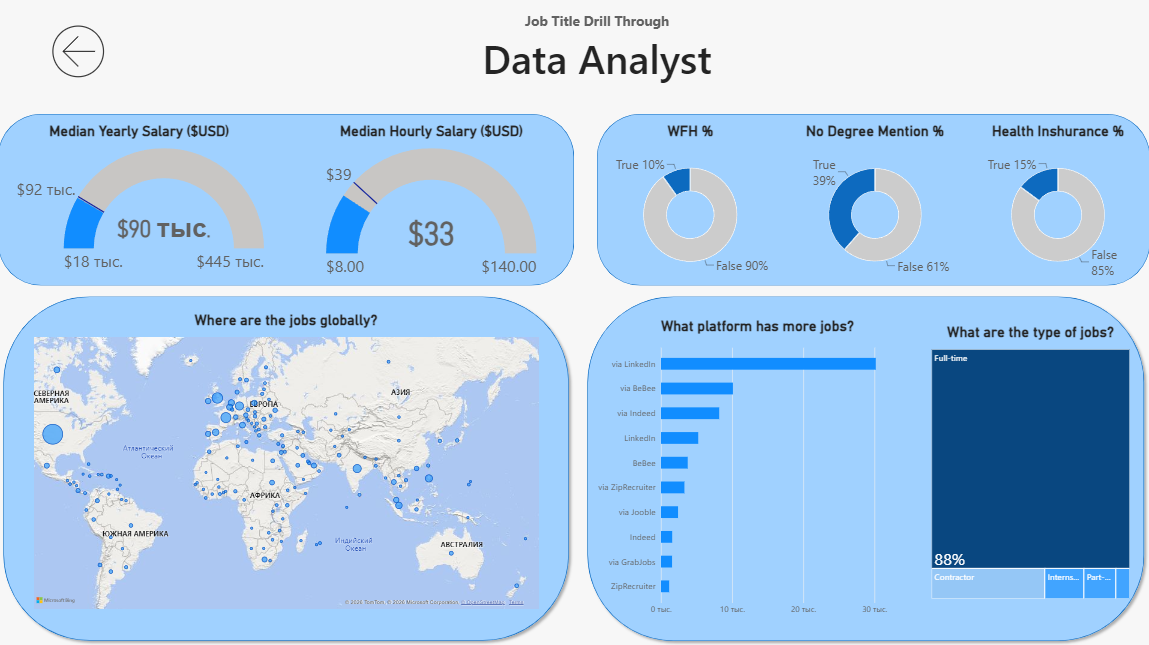

This screenshot's page, from the dashboard's own definition file:
{"tool":"powerbi","page":{"name":"Job Title Drill Through","canvas":[1920,1080],"ordinal":1},"visuals":[{"type":"shape","box":[0,192.9,960.3,286],"z":0,"group":"g1"},{"type":"group","id":"g1","title":"BACKGROUND","box":[0,192.9,1920.6,887.3],"z":0},{"type":"cardVisual","fields":{"Data":["Min(job_postings_flat.job_title_short)1"]},"box":[532.9,0,930,168.6],"z":1000},{"type":"shape","box":[998.9,192.9,921.7,286],"z":1000,"group":"g1"},{"type":"actionButton","box":[41.2,34.6,183.5,99.8],"z":2000},{"type":"shape","box":[0,488.2,960.3,591.9],"z":2000,"group":"g1"},{"type":"gauge","title":"Median Yearly Salary ($USD)","fields":{"MaxValue":["Max(job_postings_flat.salary_year_avg)1"],"MinValue":["Min(job_postings_flat.salary_year_avg)"],"TargetValue":["Avg(job_postings_flat.salary_year_avg)2"],"Y":["Median(job_postings_flat.salary_year_avg)"]},"box":[0,193,470.1,285.9],"z":3000},{"type":"shape","box":[974,487.8,946,592.4],"z":3000,"group":"g1"},{"type":"gauge","title":"Median Hourly Salary ($USD)","fields":{"MaxValue":["Max(job_postings_flat.salary_hour_avg)1"],"MinValue":["Min(job_postings_flat.salary_hour_avg)"],"TargetValue":["Avg(job_postings_flat.salary_hour_avg)2"],"Y":["Median(job_postings_flat.salary_hour_avg)"]},"box":[470,192.9,504.3,294.3],"z":4000},{"type":"donutChart","title":"WFH %","fields":{"Category":["job_postings_flat.job_work_from_home"],"Y":["CountNonNull(job_postings_flat.job_work_from_home)"]},"box":[999,193,310.9,294.7],"z":5000},{"type":"donutChart","title":"No Degree Mention %","fields":{"Category":["job_postings_flat.job_no_degree_mention"],"Y":["CountNonNull(job_postings_flat.job_no_degree_mention)"]},"box":[1310,193.3,303.3,295],"z":6000},{"type":"donutChart","title":"Health Inshurance %","fields":{"Category":["job_postings_flat.job_health_insurance"],"Y":["CountNonNull(job_postings_flat.job_health_insurance)"]},"box":[1613.3,193.3,306.7,295],"z":7000},{"type":"map","title":"Where are the jobs globally?","fields":{"Category":["job_postings_flat.job_country"],"Size":["CountNonNull(job_postings_flat.job_title_short)"]},"box":[42.7,508.4,873.8,526],"z":8000},{"type":"treemap","title":"What are the type of jobs?","fields":{"Group":["job_postings_flat.job_schedule_type"],"Values":["CountNonNull(job_postings_flat.job_schedule_type)"]},"box":[1539.8,527.5,362.5,489.2],"z":9000},{"type":"barChart","title":"What platform has more jobs?","fields":{"Category":["job_postings_flat.job_via"],"Y":["CountNonNull(job_postings_flat.job_via)"]},"box":[974.3,518.6,582,530.5],"z":10000}]}

Visuals, with their boxes in screenshot pixels (x1, y1, x2, y2), scaled from the page's 1920x1080 canvas onto the 1149x645 screenshot:
shape: 0/115/575/286
"BACKGROUND" group: 0/115/1148/644
cardVisual - Min(job_postings_flat.job_title_short)1: 319/0/875/101
shape: 598/115/1148/286
actionButton: 25/21/134/80
shape: 0/292/575/644
"Median Yearly Salary ($USD)" gauge: 0/115/281/286
shape: 583/291/1148/644
"Median Hourly Salary ($USD)" gauge: 281/115/583/291
"WFH %" donutChart: 598/115/784/291
"No Degree Mention %" donutChart: 784/115/965/292
"Health Inshurance %" donutChart: 965/115/1148/292
"Where are the jobs globally?" map: 26/304/548/618
"What are the type of jobs?" treemap: 921/315/1138/607
"What platform has more jobs?" barChart: 583/310/931/627
